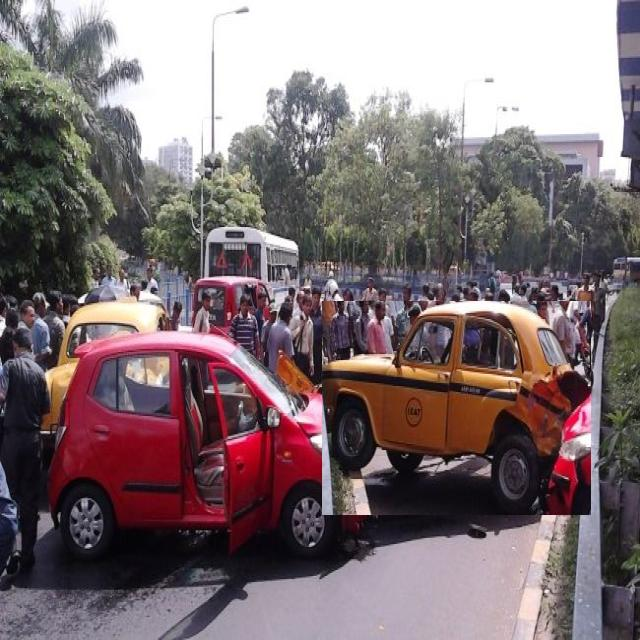accident: (48, 333, 366, 559), (322, 301, 591, 515)
bus: (204, 226, 299, 287)
